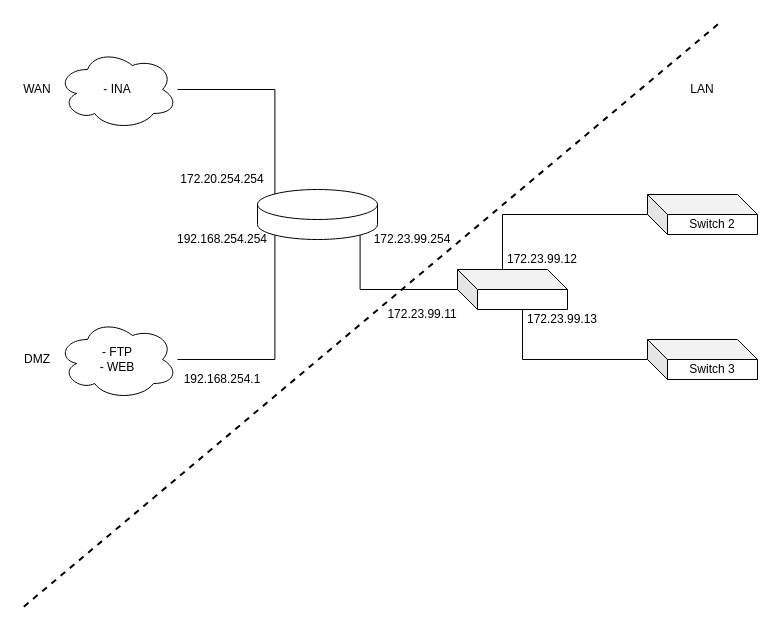
Some shapes in this 775 by 629 pixel diagram are drawn without their labels. Here are the shapes that lost their labels. From the top down, the box of each, then its label:
(256, 188, 378, 240): Routeur
(456, 268, 568, 310): Switch 1
